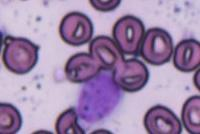L: (76, 70, 125, 126)
